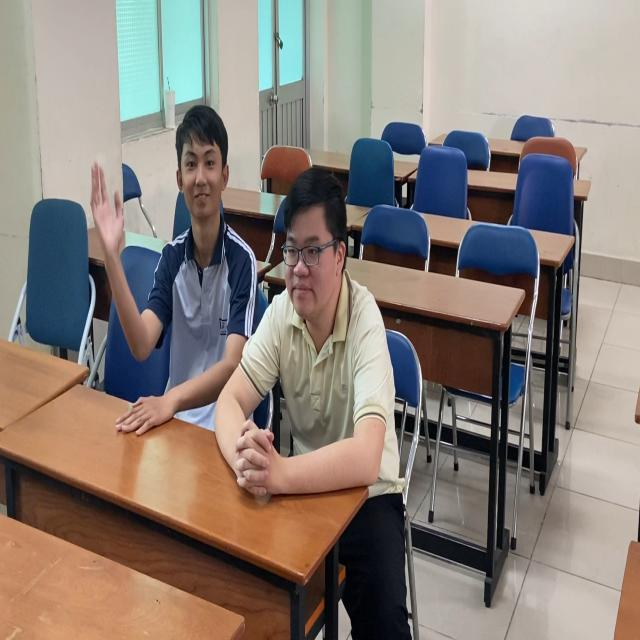raise_hand: (88, 88, 259, 441)
